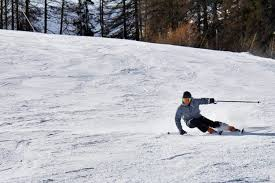skis: (204, 129, 246, 136)
